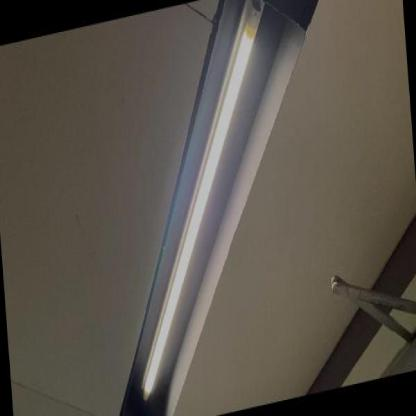light_on: (109, 0, 302, 412)
